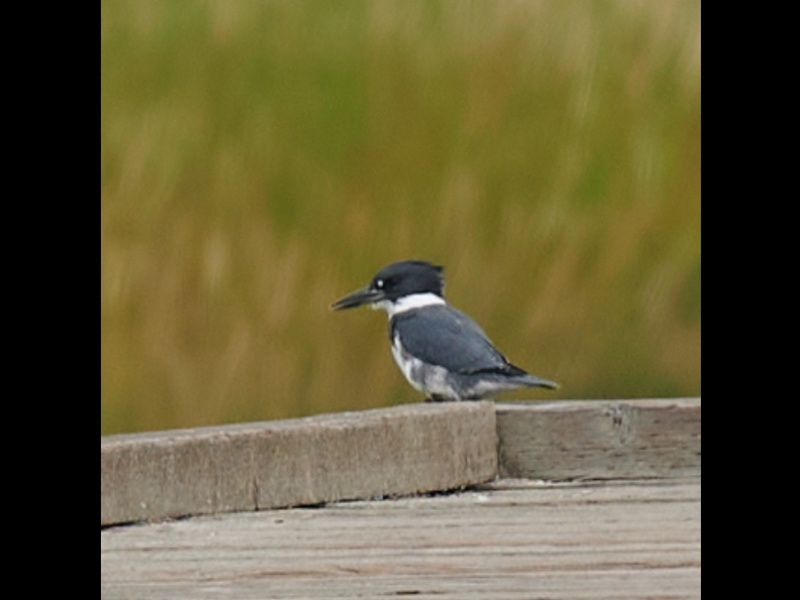kingfisher: (326, 258, 565, 407)
